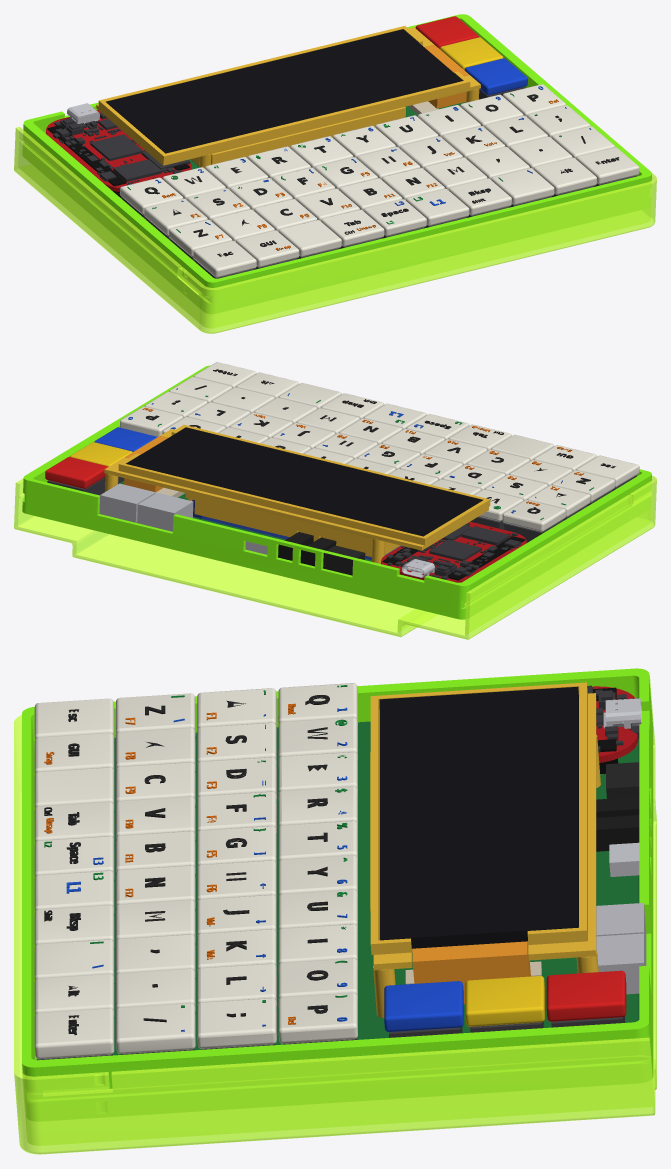
The model's file is cradle_lime.glb.
3 views of the same model, one above another, from view 1: azimuth 30°, elevation 25°; view 2: azimuth 150°, elevation 25°; view 3: azimuth 270°, elevation 25° (orthographic). The views are drawn at different scales.
Visible parts, largest first — view 1: Internals, Lid, Tray; view 2: Internals, Lid, Tray; view 3: Internals, Lid, Tray.
Part boxes in pixels (bbox=[...]): Internals: bbox=[46, 16, 639, 278]; Lid: bbox=[14, 127, 656, 333]; Tray: bbox=[23, 14, 651, 313]; Internals: bbox=[45, 362, 639, 582]; Lid: bbox=[14, 475, 656, 639]; Tray: bbox=[22, 365, 651, 619]; Internals: bbox=[34, 682, 646, 1060]; Lid: bbox=[14, 672, 656, 1154]; Tray: bbox=[22, 668, 653, 1120].
Bounding box in the file's own units: 0.1818 × 0.0365 × 0.1342.
